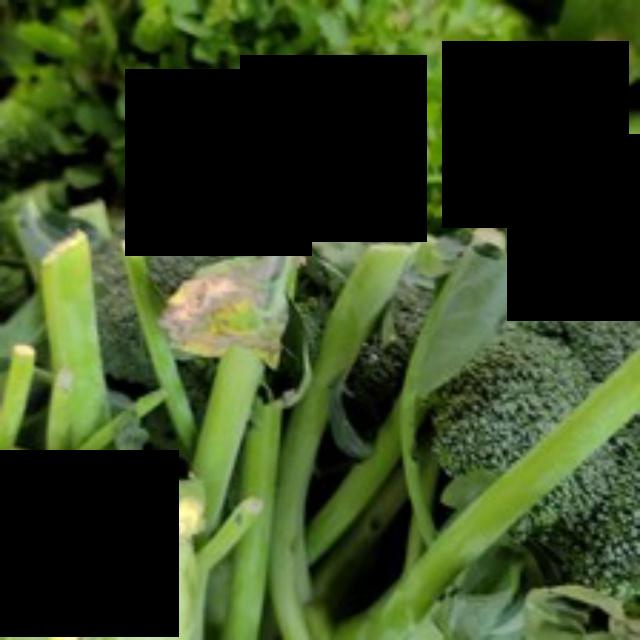broccoli: (438, 320, 618, 530)
